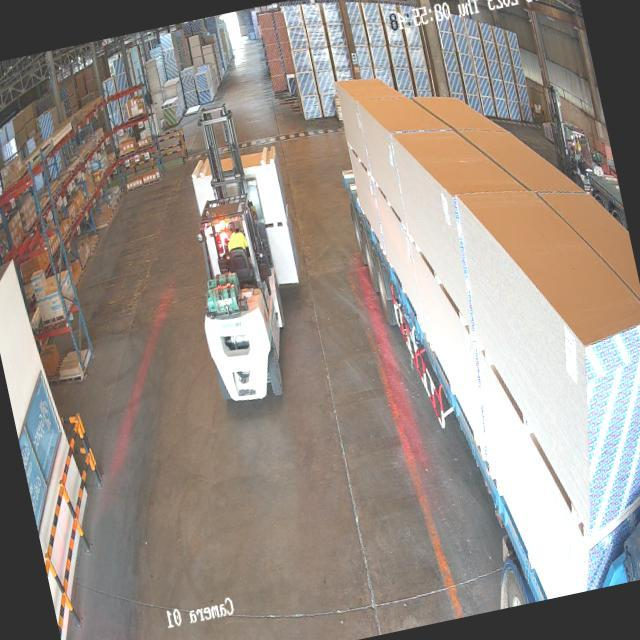driver: (222, 220, 250, 260), (568, 134, 584, 163)
forklift: (173, 182, 304, 420), (556, 116, 604, 180)
